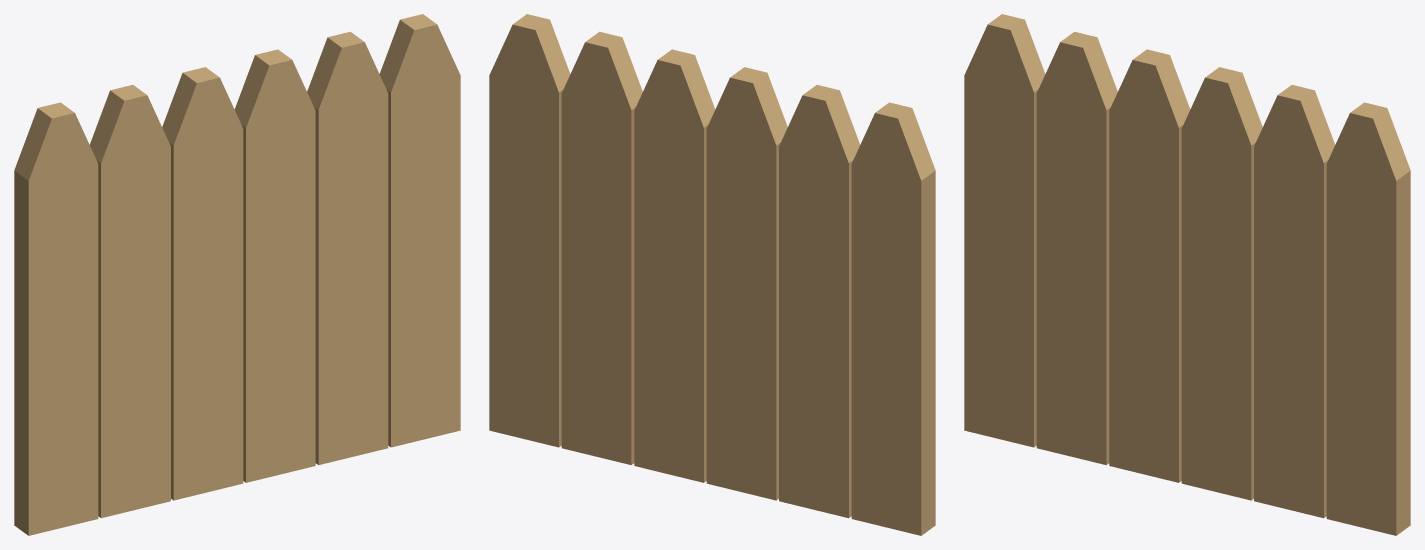
The model's file is Wall.fbx.
3 renders of one model, left to right at view 1: azimuth 30°, elevation 25°; view 2: azimuth 150°, elevation 25°; view 3: azimuth 330°, elevation 25°, orthographic.
Visible parts, largest first — view 1: Cube.010; view 2: Cube.010; view 3: Cube.010.
Boxes of the visible parts, x1,y1,x2,y2 form: Cube.010: (14,14,460,535); Cube.010: (489,14,935,535); Cube.010: (964,14,1410,535).
Bounding box in the file's own units: 195 × 178 × 11.27.
